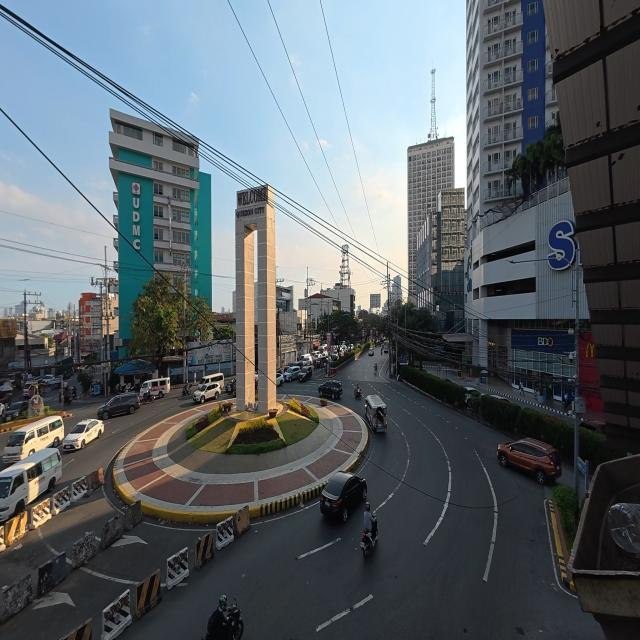Jeepneys: (365, 395, 386, 432)
car: (497, 438, 561, 484), (320, 472, 367, 521), (63, 420, 104, 450), (98, 393, 139, 420), (193, 383, 221, 403), (319, 380, 342, 399), (6, 401, 29, 420), (580, 420, 605, 434), (465, 387, 482, 403), (284, 365, 300, 382), (23, 382, 38, 397), (299, 367, 313, 382), (490, 394, 511, 403), (225, 378, 236, 393), (42, 375, 54, 384), (276, 373, 284, 386), (276, 366, 282, 374), (384, 345, 388, 353), (369, 349, 374, 355), (255, 373, 258, 382), (350, 344, 353, 350)
motorcycle: (361, 515, 378, 557), (226, 597, 243, 639), (140, 394, 154, 405), (182, 384, 190, 396), (354, 389, 361, 399), (72, 386, 77, 399)
vans: (0, 449, 61, 521), (3, 416, 64, 463), (140, 378, 170, 398), (199, 373, 224, 389)
